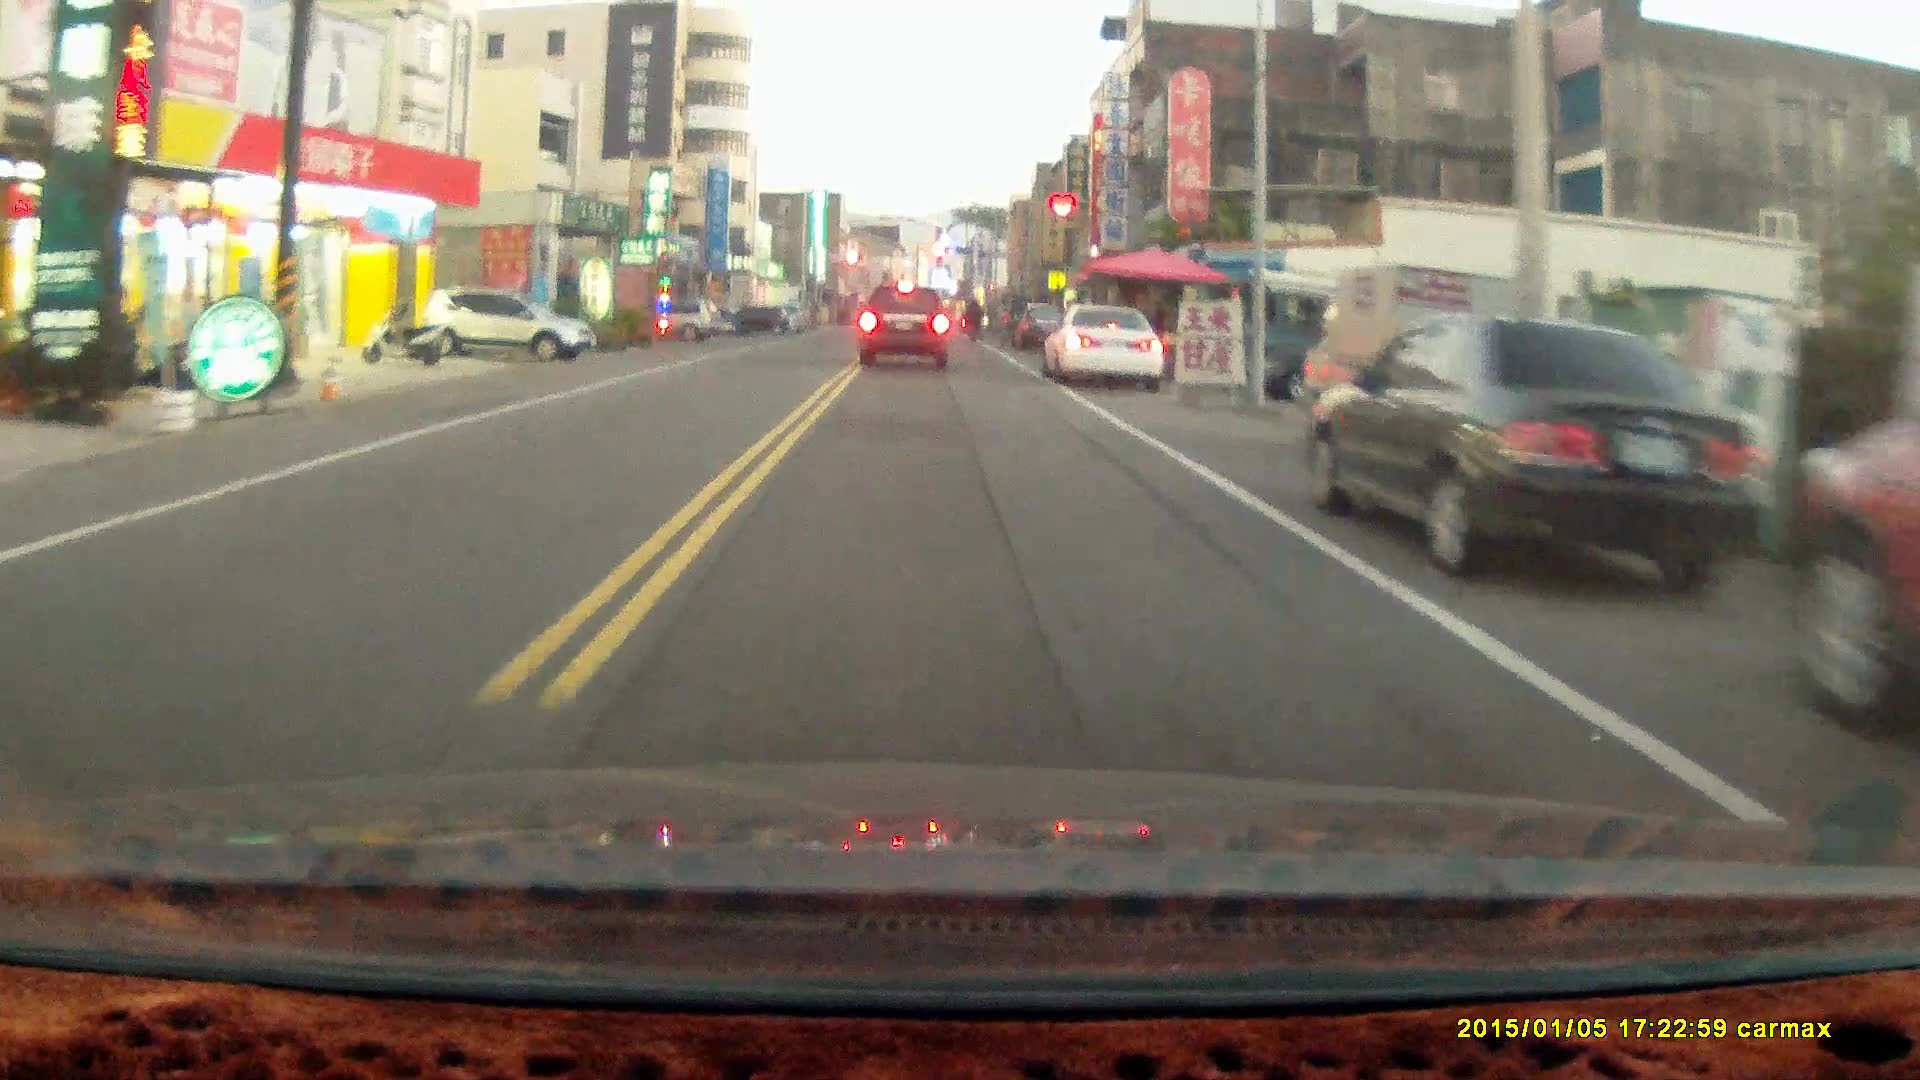vehicle: (1300, 313, 1771, 597), (1302, 255, 1524, 431), (419, 287, 593, 363), (1040, 302, 1167, 393), (858, 276, 949, 367)
